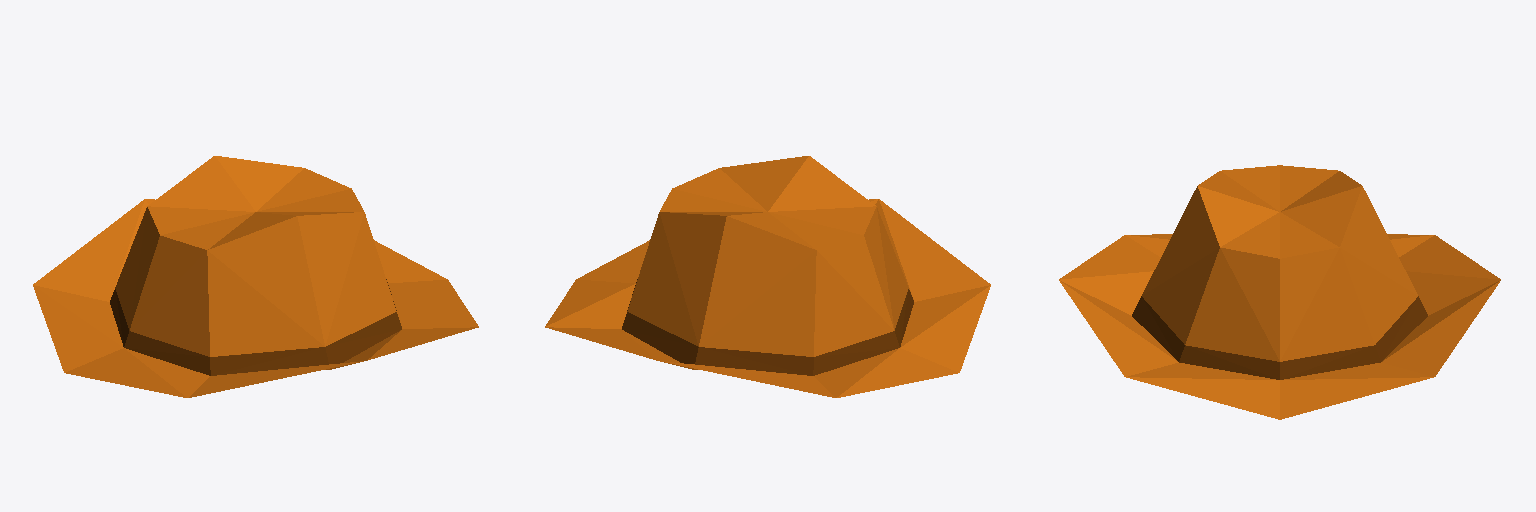
3 renders of one model, left to right at view 1: azimuth 30°, elevation 25°; view 2: azimuth 150°, elevation 25°; view 3: azimuth 270°, elevation 25°, orthographic.
Parts seen in each view (by area): view 1: Cube; view 2: Cube; view 3: Cube.
Part boxes in pixels (left/top/right/bottom): Cube: left=33, top=156, right=478, bottom=397; Cube: left=545, top=156, right=990, bottom=397; Cube: left=1059, top=165, right=1500, bottom=419.
Bounding box in the file's own units: 2 × 0.7 × 2.
Materials: 1 (1 with a texture image).